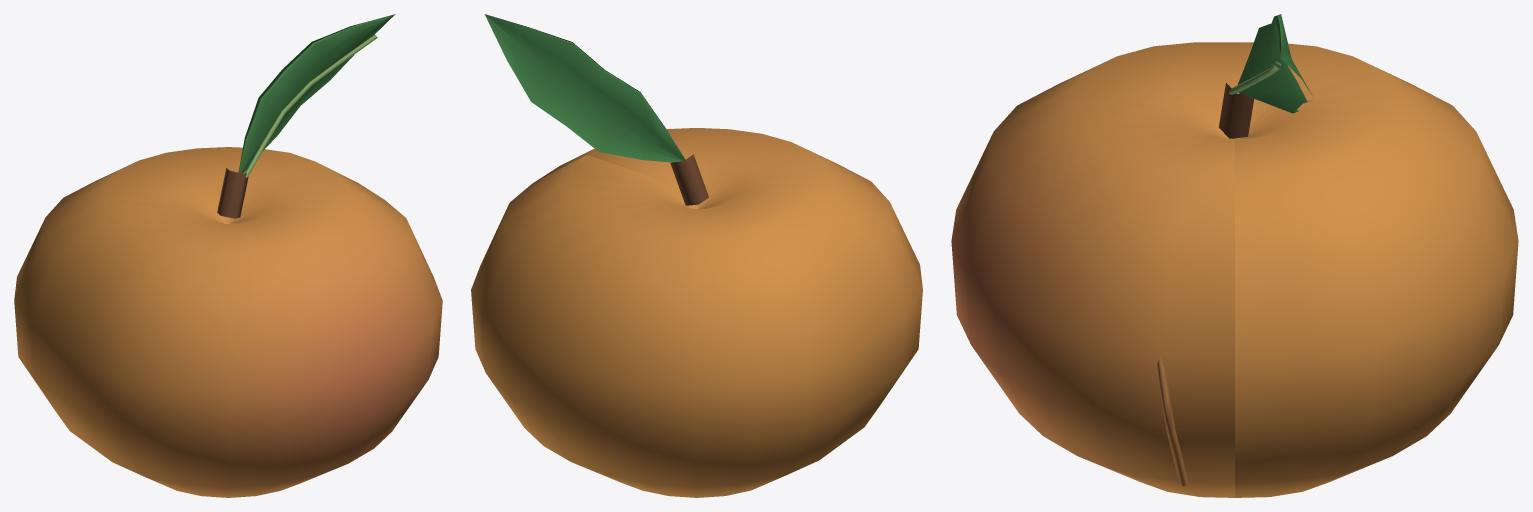
The model's file is fruta_durazno.glb.
3 views of the same model, side by side, from view 1: azimuth 30°, elevation 25°; view 2: azimuth 150°, elevation 25°; view 3: azimuth 270°, elevation 25° (orthographic). The views are drawn at different scales.
Parts seen in each view (by area): view 1: fruta_durazno; view 2: fruta_durazno; view 3: fruta_durazno.
Part boxes in pixels (x1,y1,x2,y2): fruta_durazno: (14, 14, 442, 497); fruta_durazno: (471, 14, 922, 497); fruta_durazno: (951, 14, 1518, 497).
Bounding box in the file's own units: 0.2979 × 0.3073 × 0.312.
